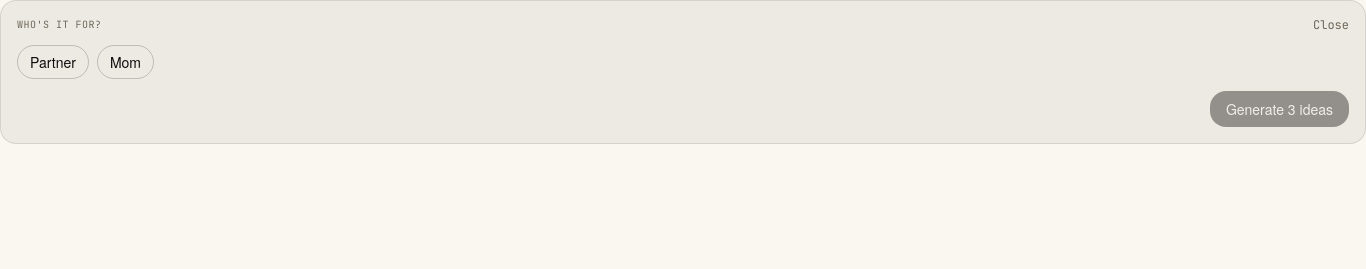
Test case: CardMessageAssist › shows skeleton while fetching
Step 1. Click the button "Partner" → (53, 62), box left=17, top=45, right=89, bottom=79
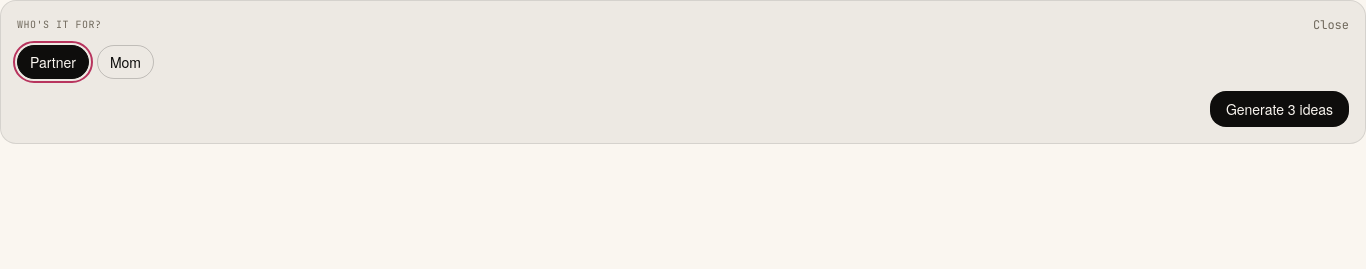
Step 2. Click the button "Generate 3 ideas" → (1279, 109), box left=1210, top=91, right=1349, bottom=127
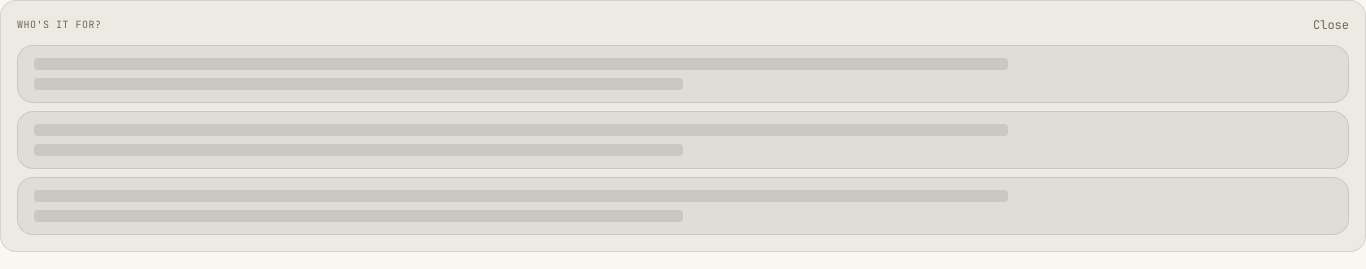
Check: the element with test id "card-message-skeleton" is shown
